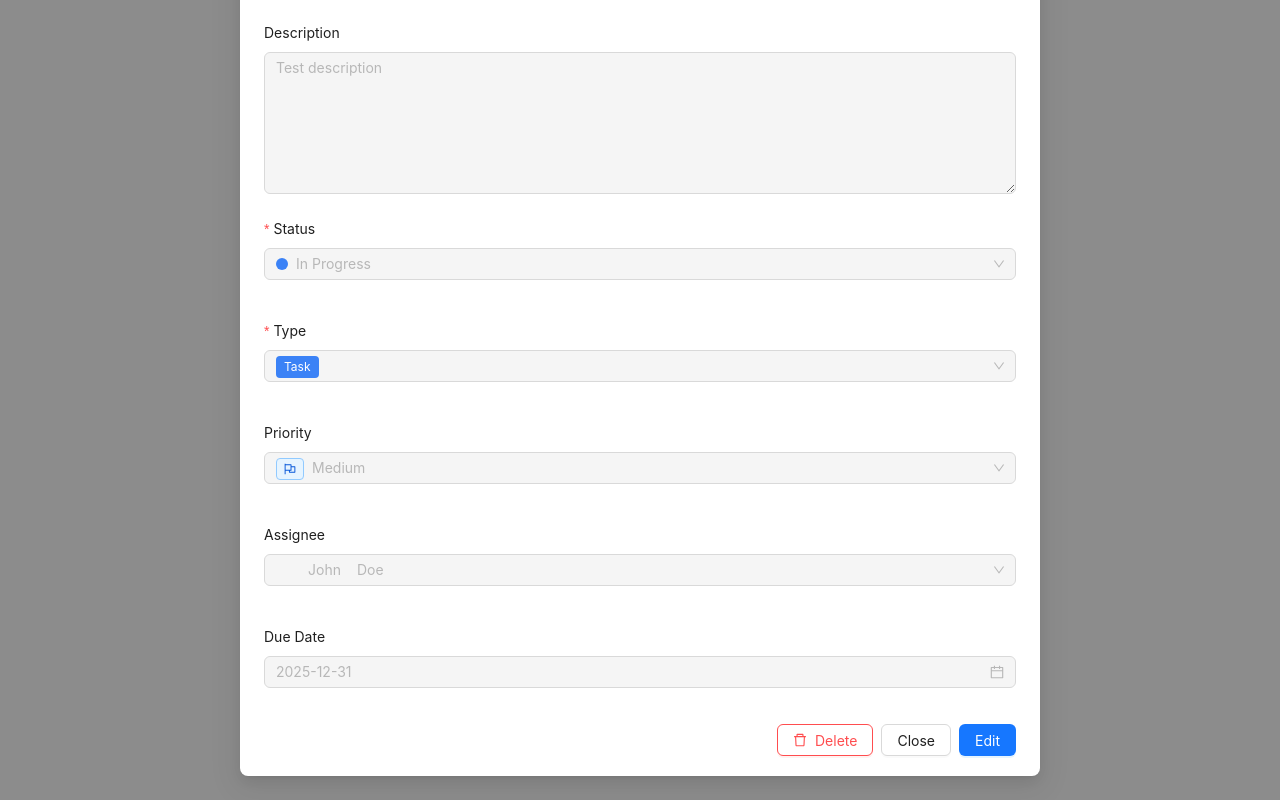
Test: TaskModal › validates required title field
This screenshot has width=1280, height=800.
(page scrolled)
Click the button "Edit".
click(988, 740)  # box [959,724,1016,756]
(page scrolled)
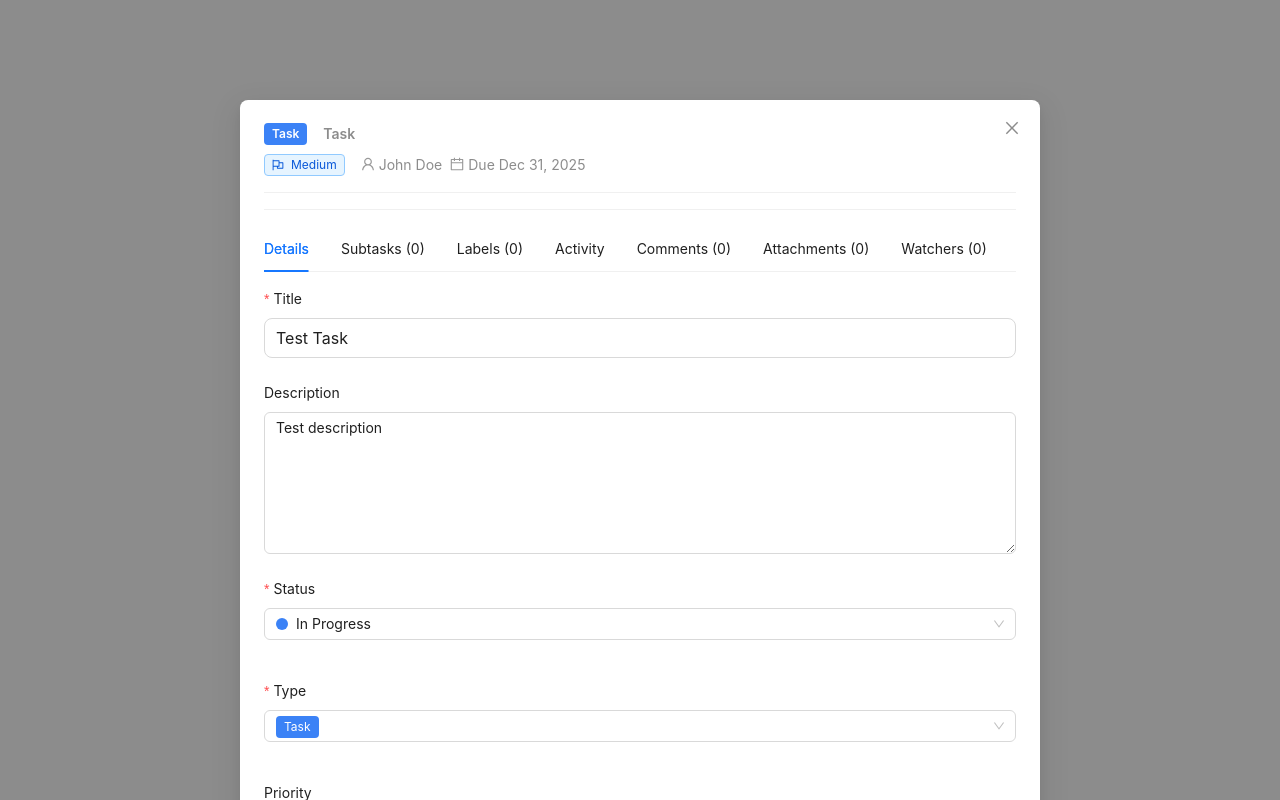
Clear the field showing "Test Task" at (640, 338), box [264,318,1016,358]
(page scrolled)
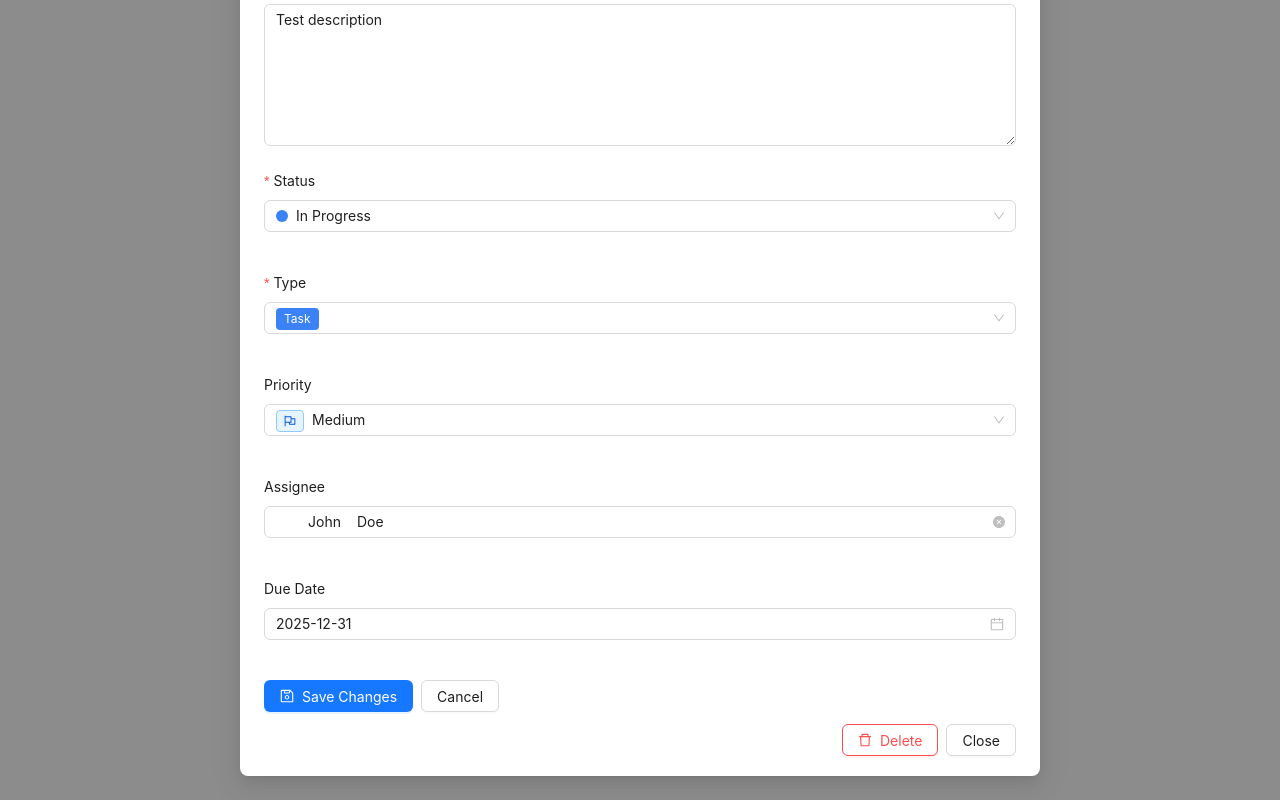
Click the button "Save Changes".
click(339, 696)  # box [264,680,413,712]
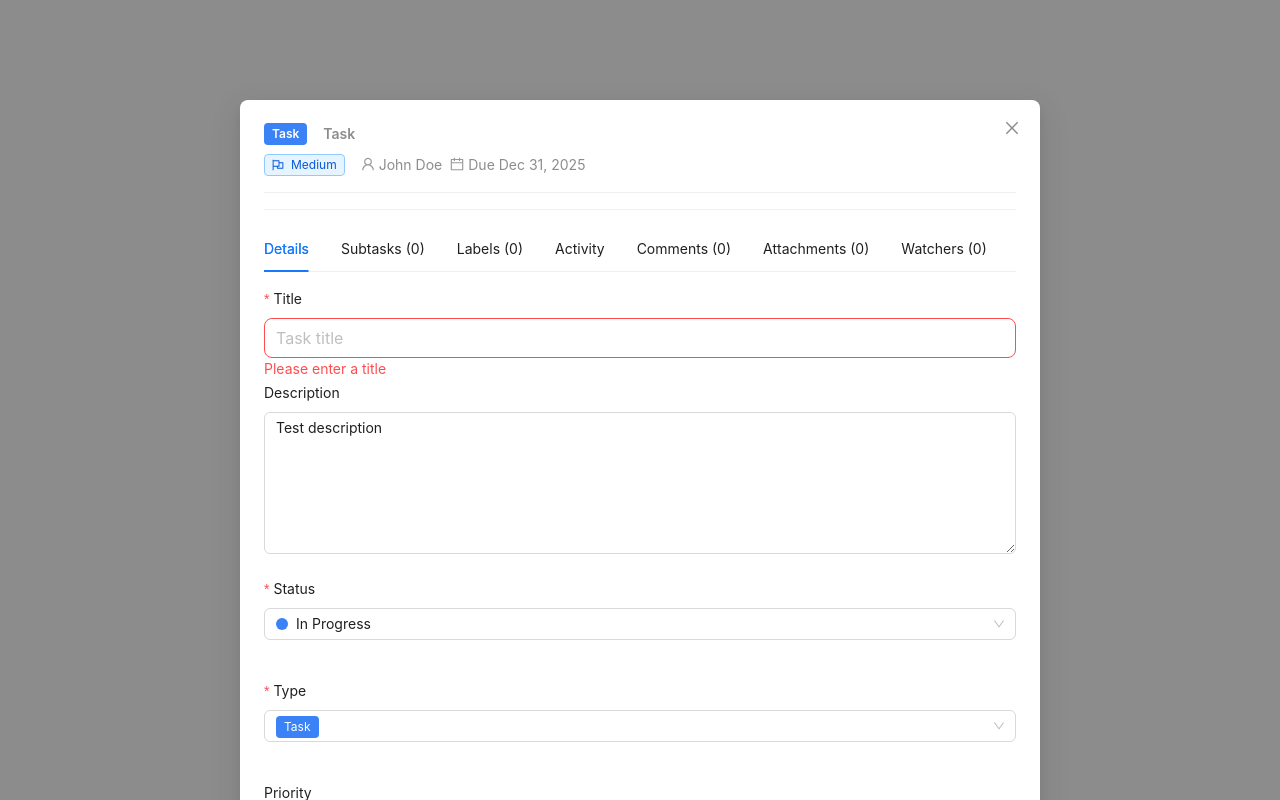
Expected: the text "Please enter a title" is shown, [264,360,386,377]
